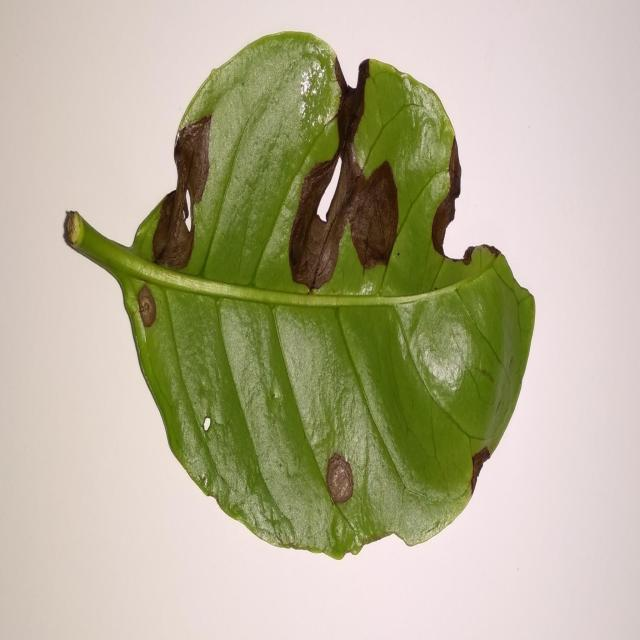phoma: (289, 58, 398, 291), (152, 115, 211, 269), (432, 136, 501, 265), (326, 452, 355, 511), (467, 446, 494, 501), (138, 284, 158, 330)
